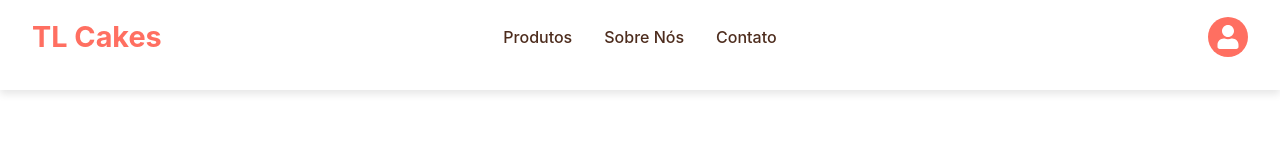
it: Header component › should display login button when user is not logged in
This screenshot has width=1280, height=160.
Click the button titled "Login".
click(1228, 37)  # box [1208,17,1248,57]
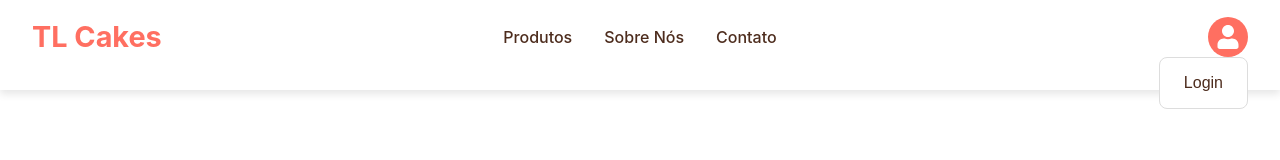
Check: the button "Login" is shown, box [1168,66,1239,100]
